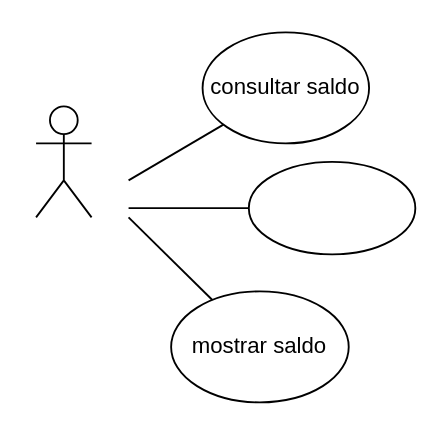
Some shapes in this 448 by 435 pixel diagram are drawn without their labels. Here are the shapes that lost their labels. From the top down, the centre of each, then its label:
At (63,161): "cliente".
At (331,207): "validar cuenta activa".
